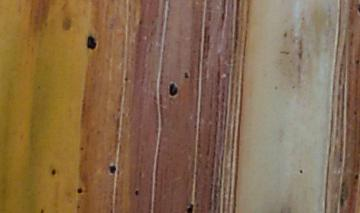tarspot: (86, 36, 97, 49), (169, 83, 178, 96), (183, 71, 191, 81), (109, 165, 117, 174), (186, 203, 193, 213), (76, 186, 83, 193), (356, 3, 360, 15), (353, 109, 359, 117), (354, 172, 359, 181), (50, 169, 57, 175), (134, 189, 140, 196), (79, 145, 85, 152), (123, 76, 130, 82), (298, 168, 304, 174), (355, 59, 360, 64), (76, 204, 81, 209), (40, 208, 44, 213)
